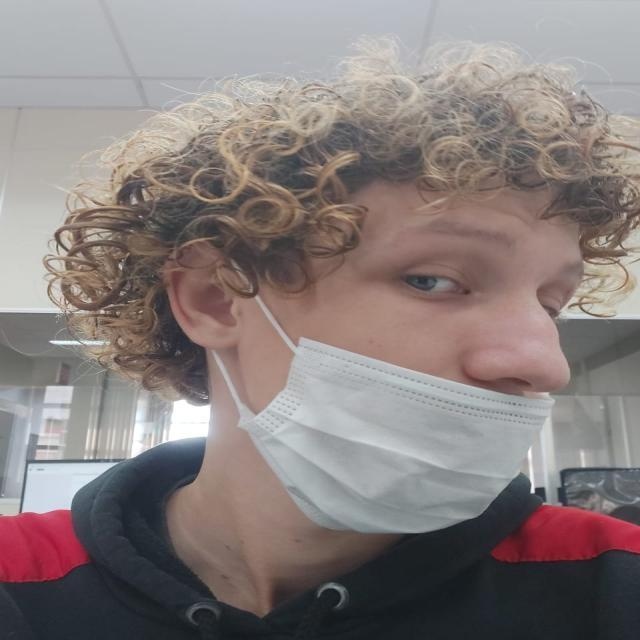hairnet: (310, 168, 574, 534)
